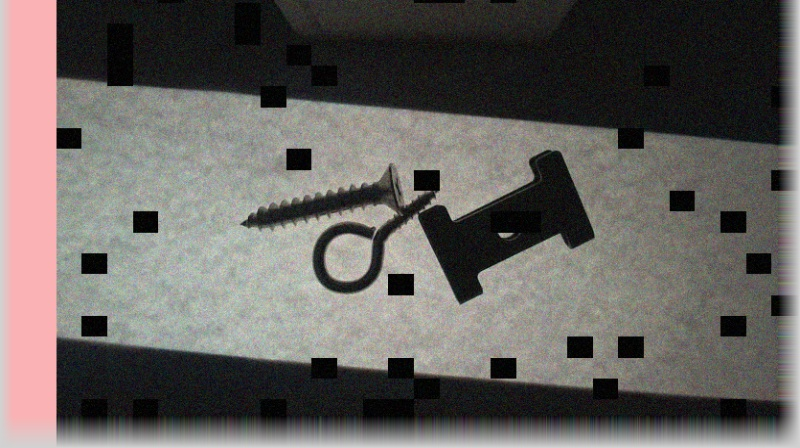O001: (309, 184, 439, 296)
O002: (416, 149, 595, 306)
S001: (235, 163, 405, 228)
